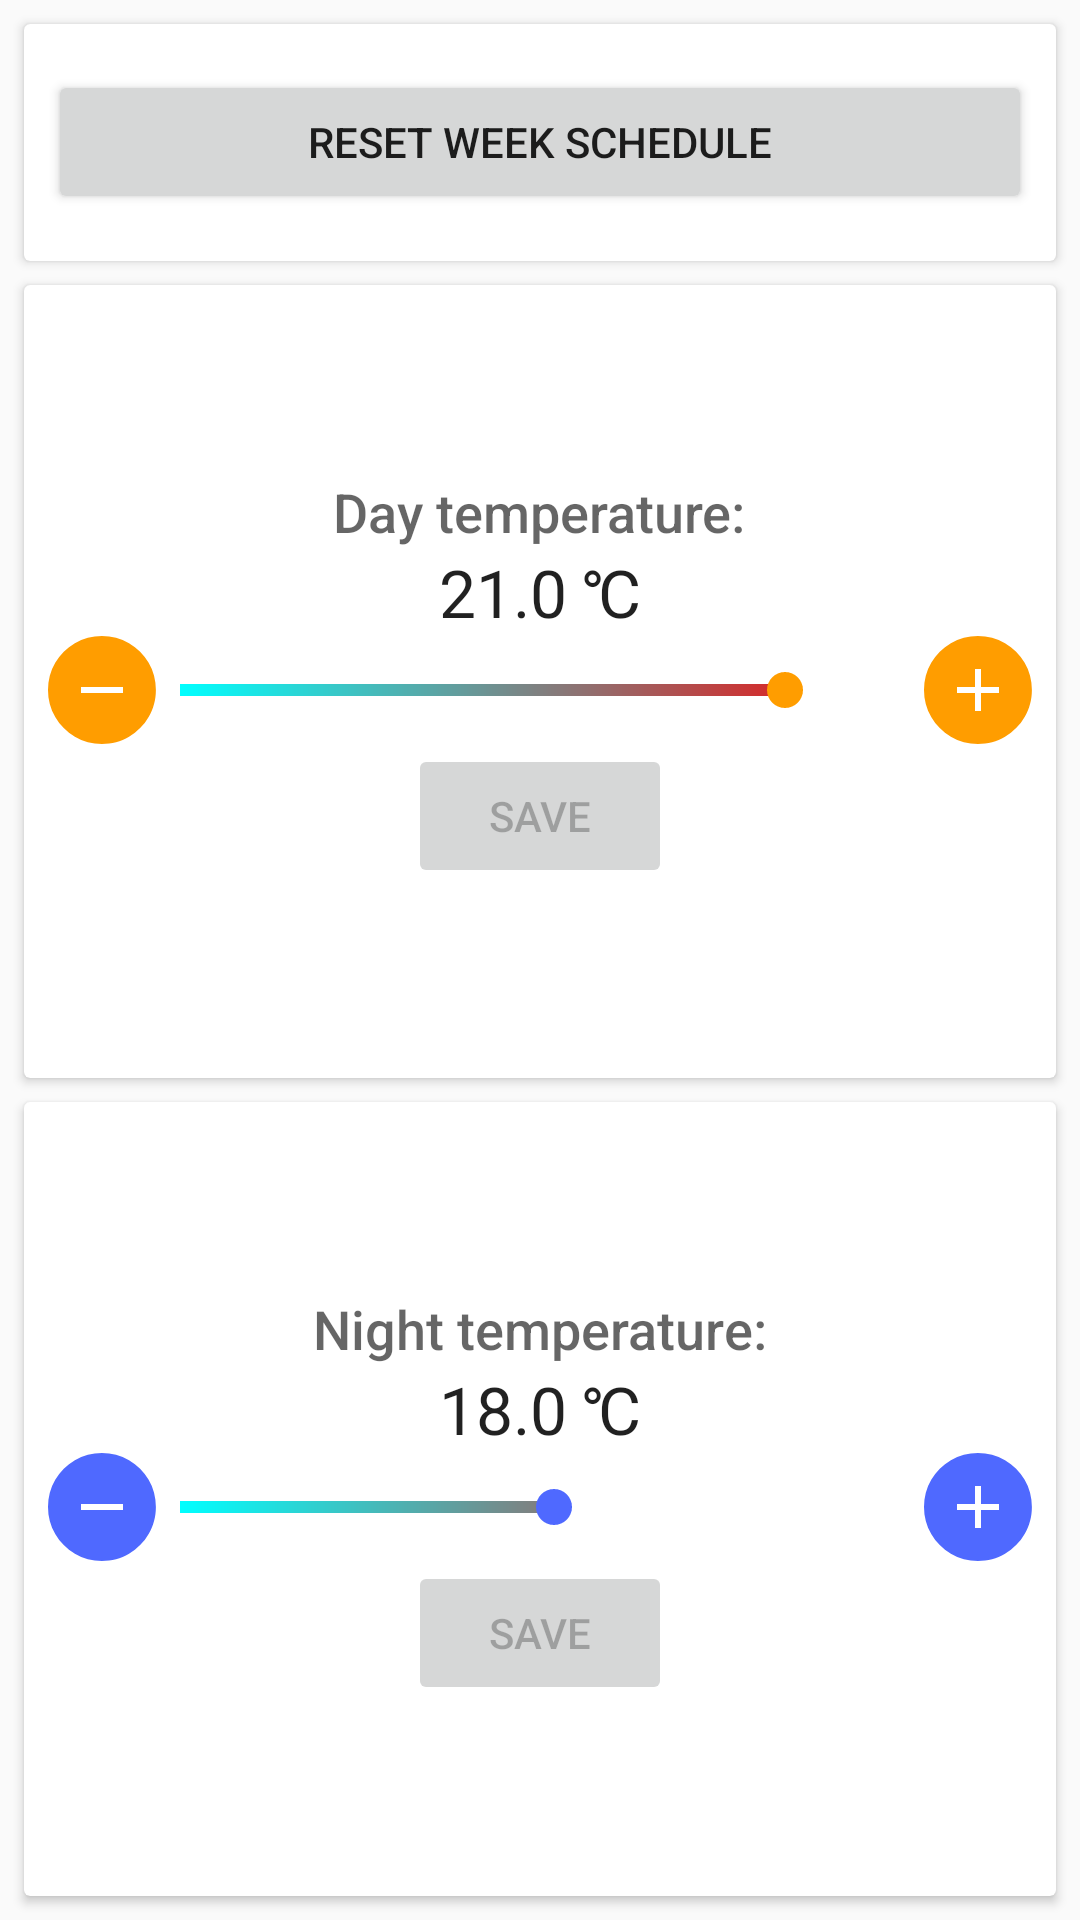

Where icons sit on this 1080 x 1920 app screen, as BBox(x1, y1, x2, y2):
minus: BBox(48, 636, 156, 744), BBox(48, 1453, 156, 1561)
plus: BBox(924, 636, 1032, 744), BBox(924, 1453, 1032, 1561)
